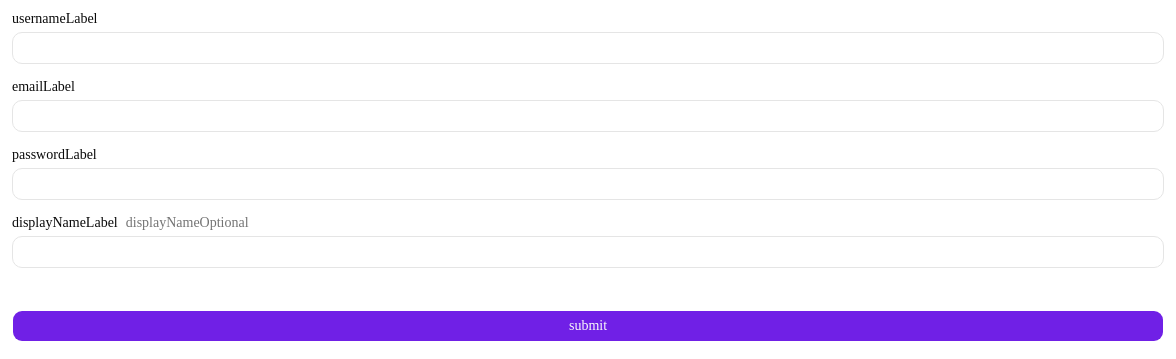
Test: RegisterForm › shows a conflict message on 409 without redirecting
This screenshot has width=1176, height=359.
In the field labelled "usernameLabel": (588, 48) [12,32,1164,64], type "valid_user-1"
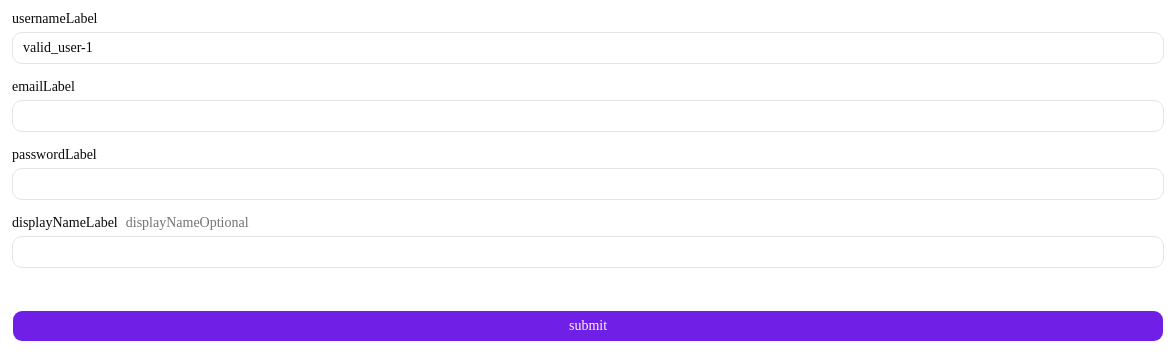
In the field labelled "emailLabel": (588, 116) [12,100,1164,132], type "user@example.com"
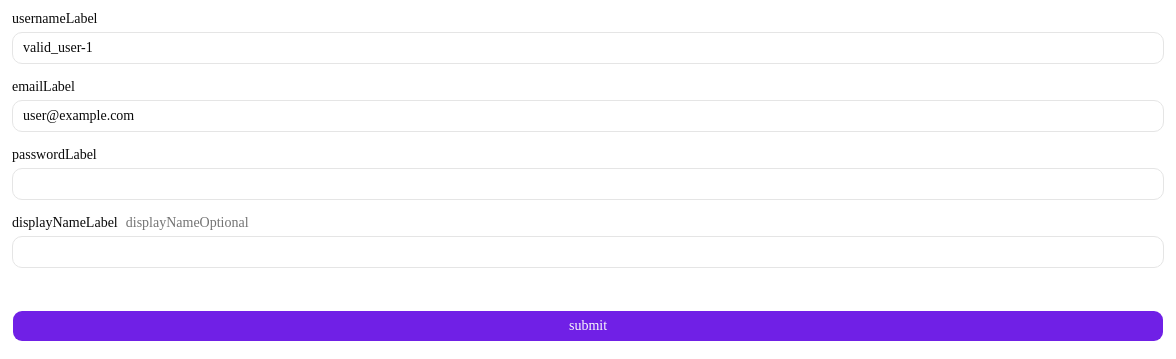
In the password field labelled "passwordLabel": (588, 184) [12,168,1164,200], type "longenough1"
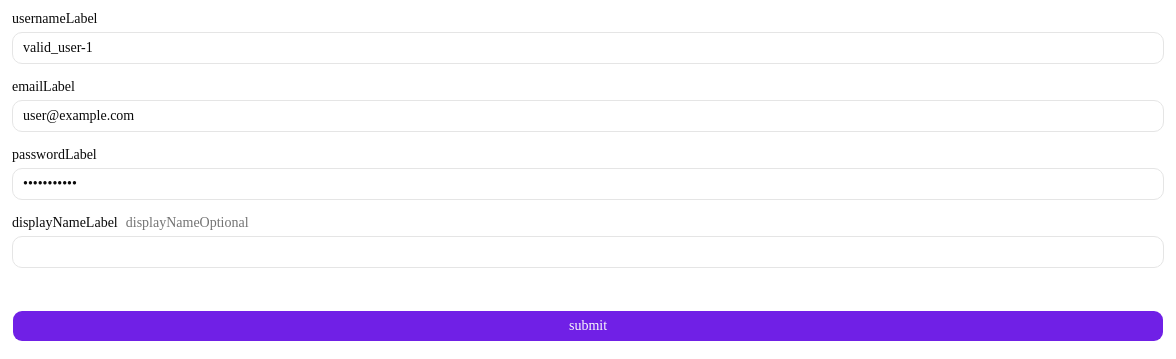
Click the button "submit": (588, 326) [12,310,1164,342]
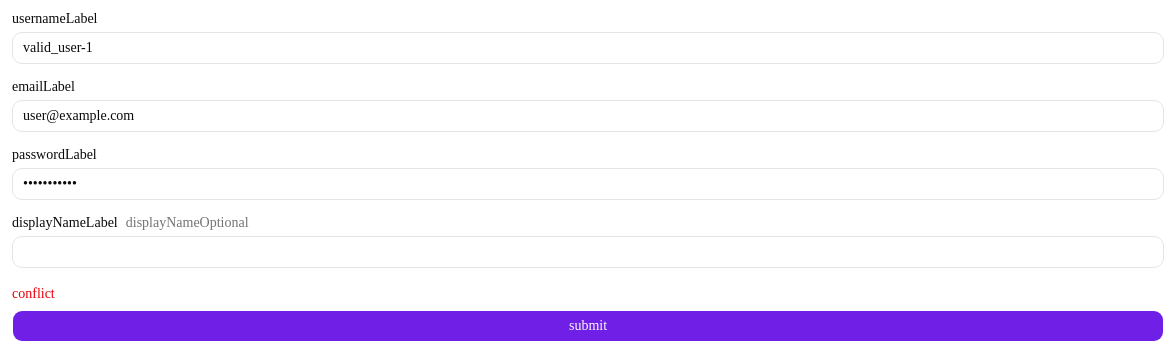
Now the text "conflict" is shown, box [12,286,55,301]
